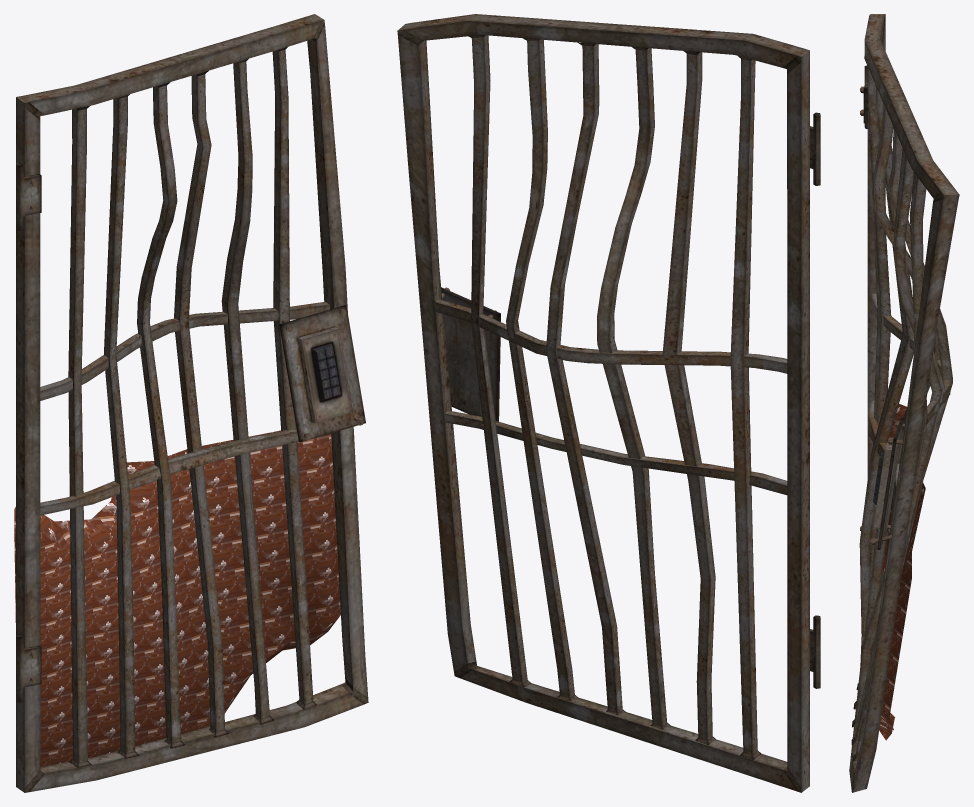
The model's file is jungle_ziggurat_security_entrance_b_gatel.glb.
The picture shows the model from 3 angles, left to right: view 1: azimuth 30°, elevation 25°; view 2: azimuth 150°, elevation 25°; view 3: azimuth 270°, elevation 25°; orthographic projection. The views are drawn at different scales.
Visible parts, largest first — view 1: entrance_b_gateL_LOD0; view 2: entrance_b_gateL_LOD0; view 3: entrance_b_gateL_LOD0.
Boxes of the visible parts, <box> form: entrance_b_gateL_LOD0: <box>14,14,368,792</box>; entrance_b_gateL_LOD0: <box>397,14,820,792</box>; entrance_b_gateL_LOD0: <box>849,14,959,792</box>.
Bounding box in the file's own units: 1.56 × 2.89 × 0.4513.
Materials: 2 (2 with a texture image).
